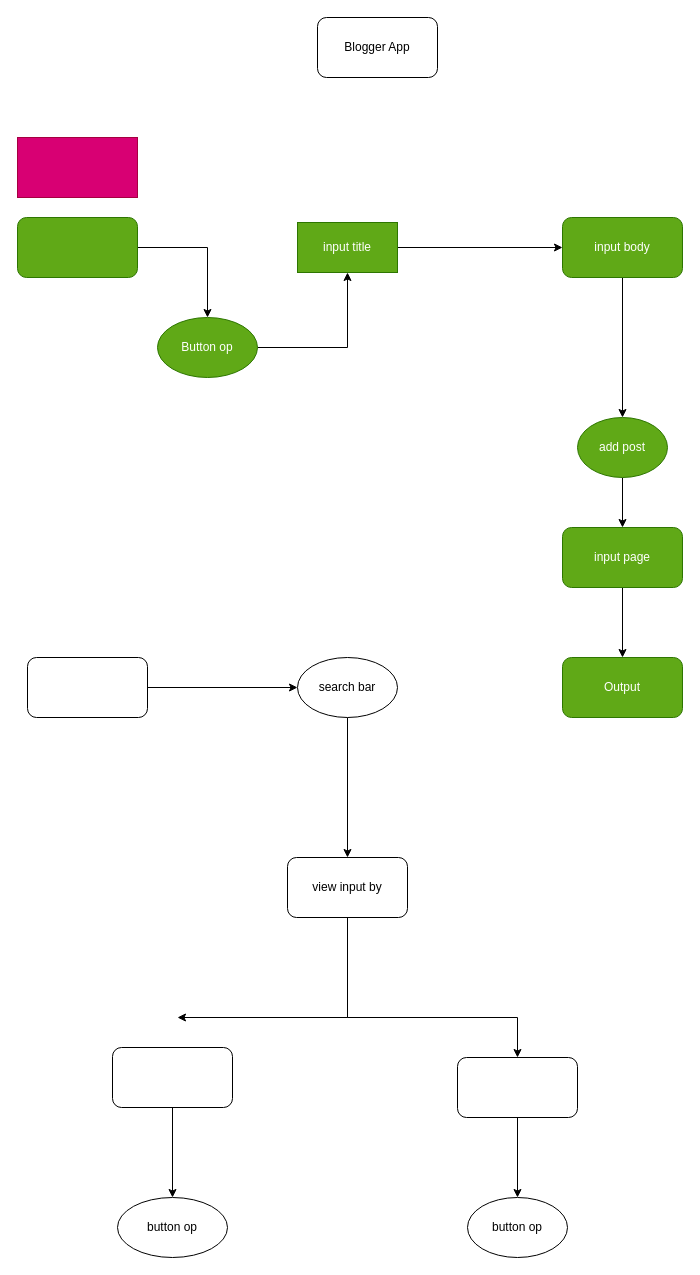
Some shapes in this 700 by 1275 pixel diagram are drawn without their labels. The centre of each missing label's shape, as x and y in pixels:
components createpost.js: point 77,167
Compose path: point 77,247
Delete Post: point 517,1087
Edit Post: point 172,1077
View posts: point 87,687
